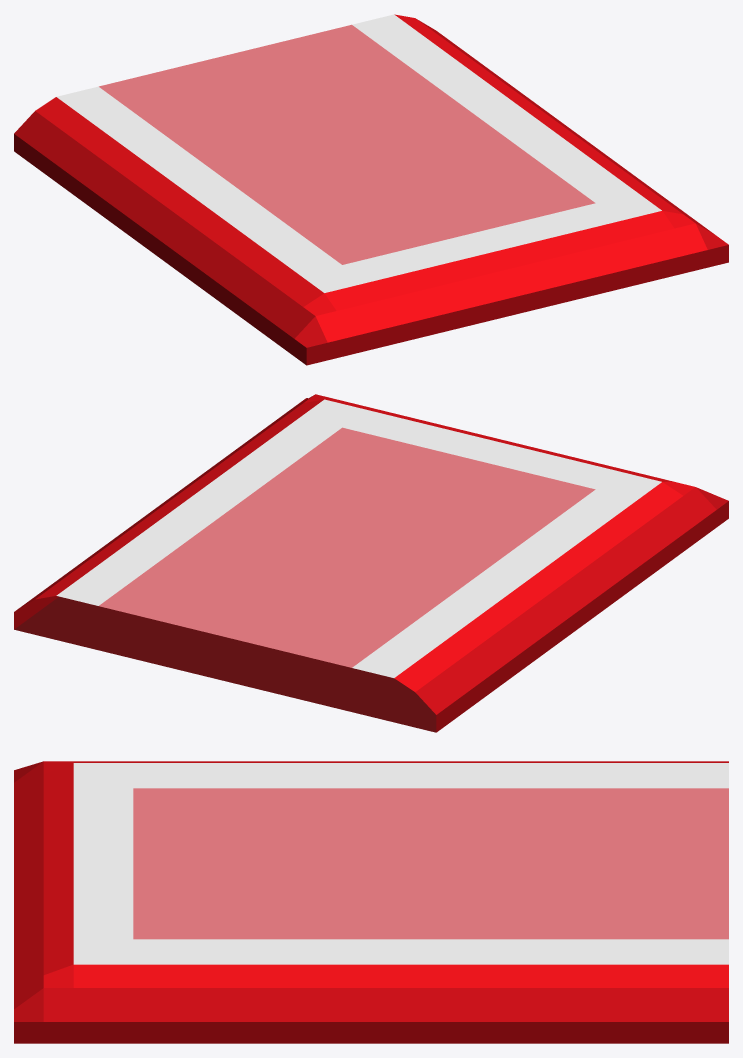
Rendered from straightEnd.fbx.
The picture shows the model from 3 angles, top to bottom: view 1: azimuth 30°, elevation 25°; view 2: azimuth 150°, elevation 25°; view 3: azimuth 270°, elevation 25°; orthographic projection. The views are drawn at different scales.
Visible parts, largest first — view 1: StraightEnd; view 2: StraightEnd; view 3: StraightEnd.
Boxes of the visible parts, x1,y1,x2,y2 form: StraightEnd: (14,14,728,365); StraightEnd: (14,394,728,732); StraightEnd: (14,761,728,1043).
Size of the model in its own units: 10 by 1 by 12.
